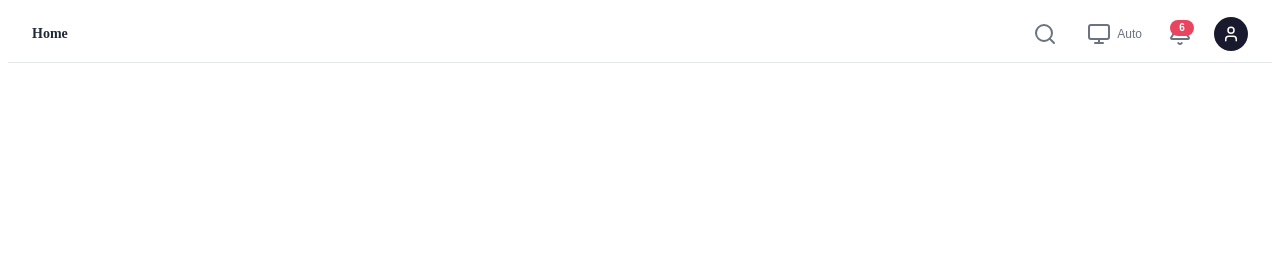
Test case: TopBar › closes profile dropdown on Escape
This screenshot has width=1280, height=260.
Click the button named "User menu" at (1231,34), box [1214, 17, 1248, 51]
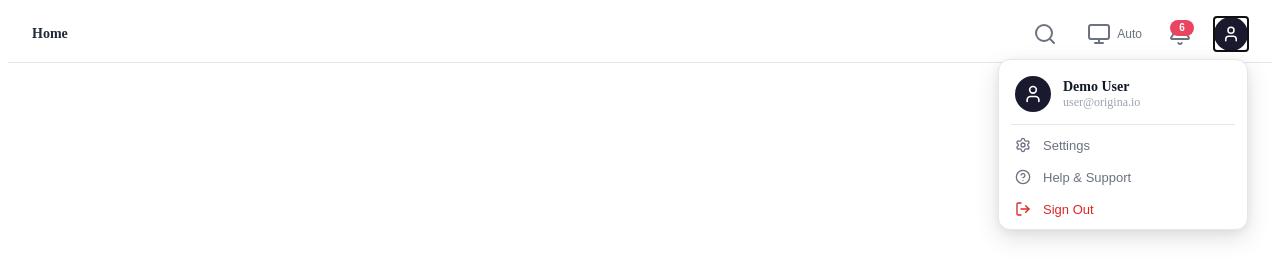
Now the menu is shown, box [998, 59, 1248, 230]
Press Escape in the element named "User menu", box [1214, 17, 1248, 51]
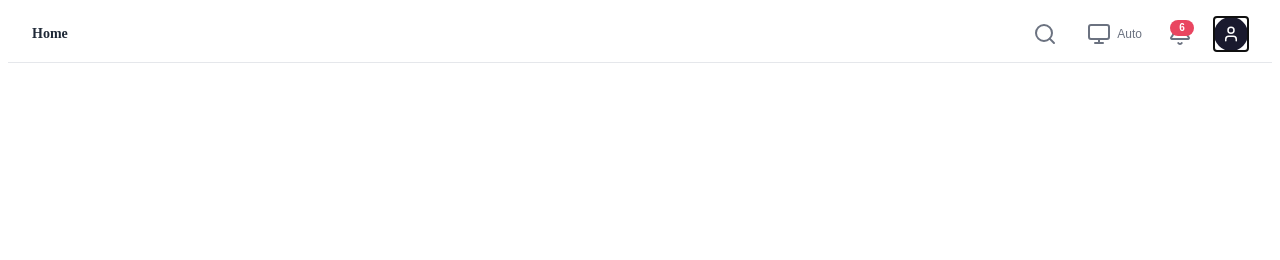
Now the menu is gone
